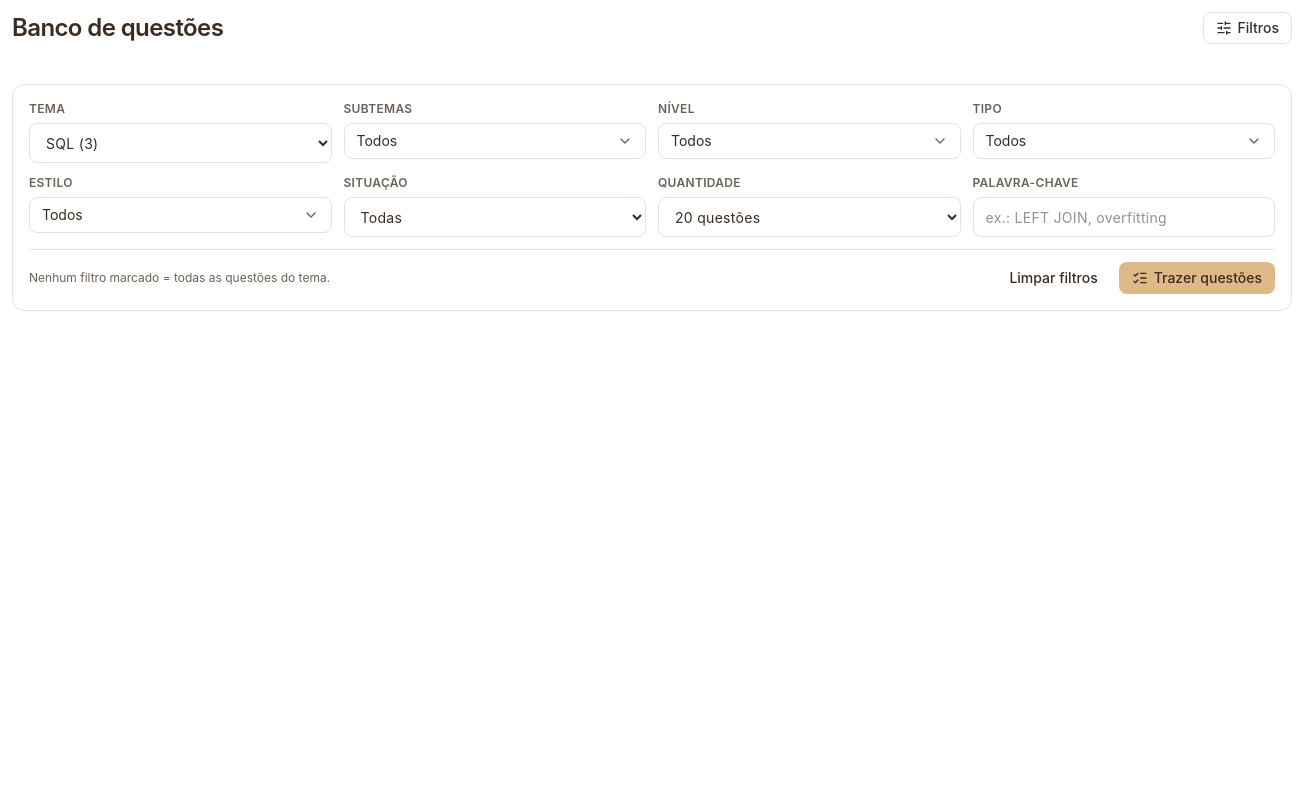
Test: banco de questões › corrige e comenta a resposta, e não deixa responder de novo
Step 1. Click the button "Trazer questões" → (1197, 278), box [1119,262,1275,294]
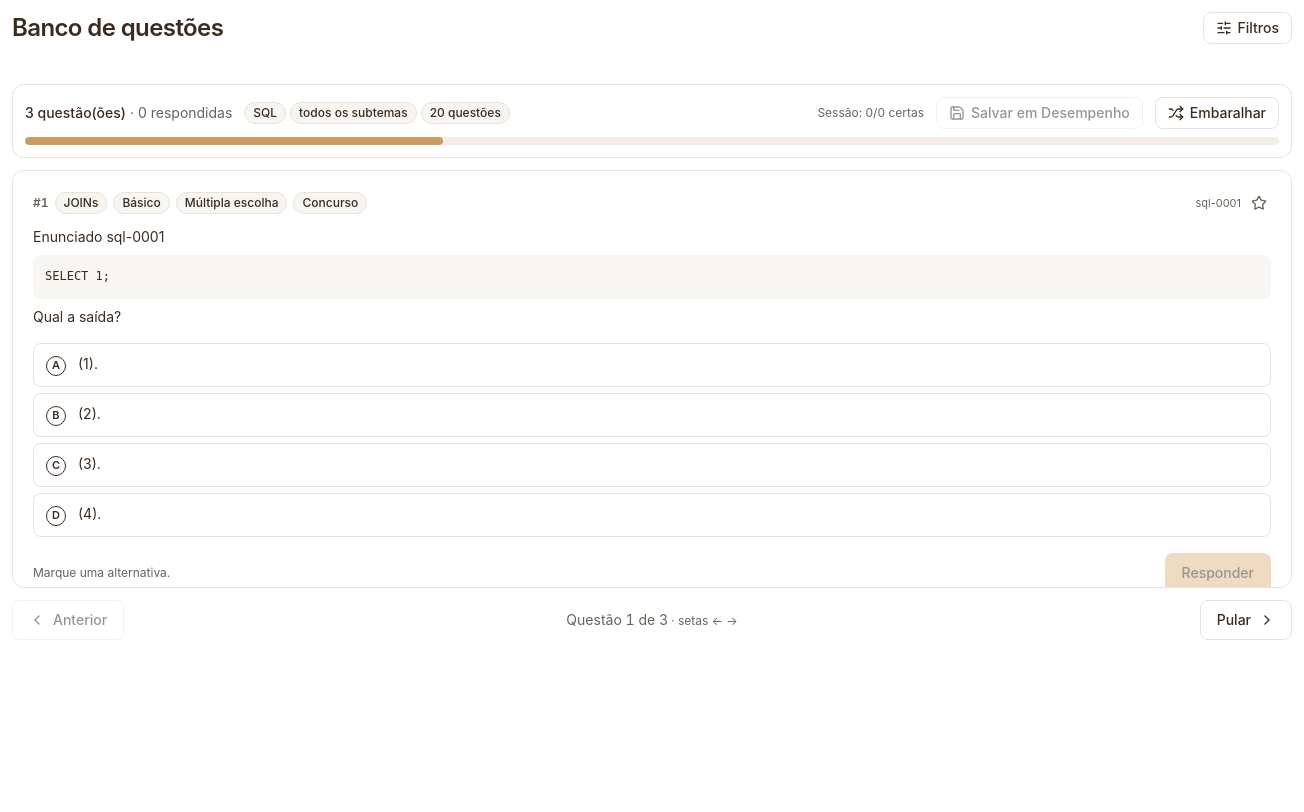
Check: the text "3 questão(ões)" is shown, box [25,104,126,121]
Check: the button "Responder" is disabled, box [1164,552,1271,588]
Step 2. Click the button named "Alternativa A" → (56, 366), box [33,342,1271,386]
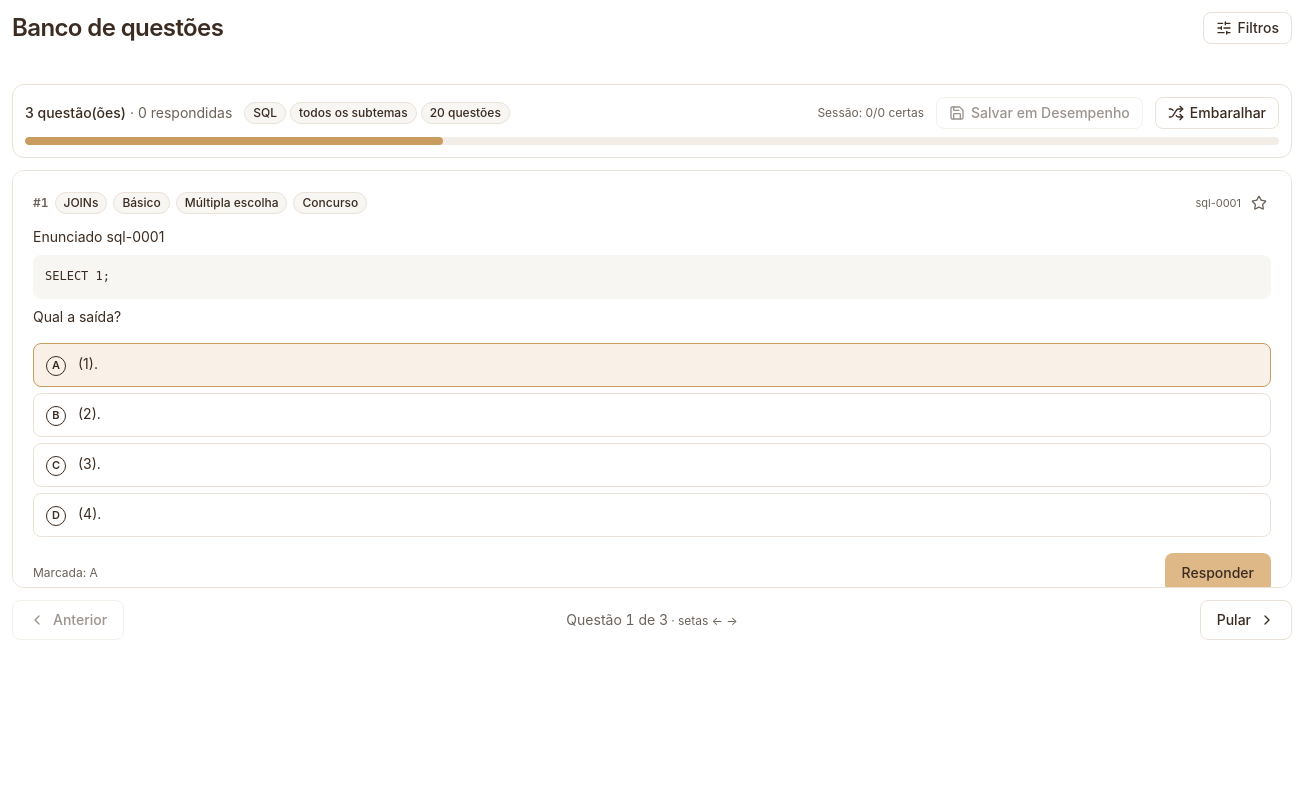
Step 3. Click the button "B (2)." → (56, 416), box [33,392,1271,436]
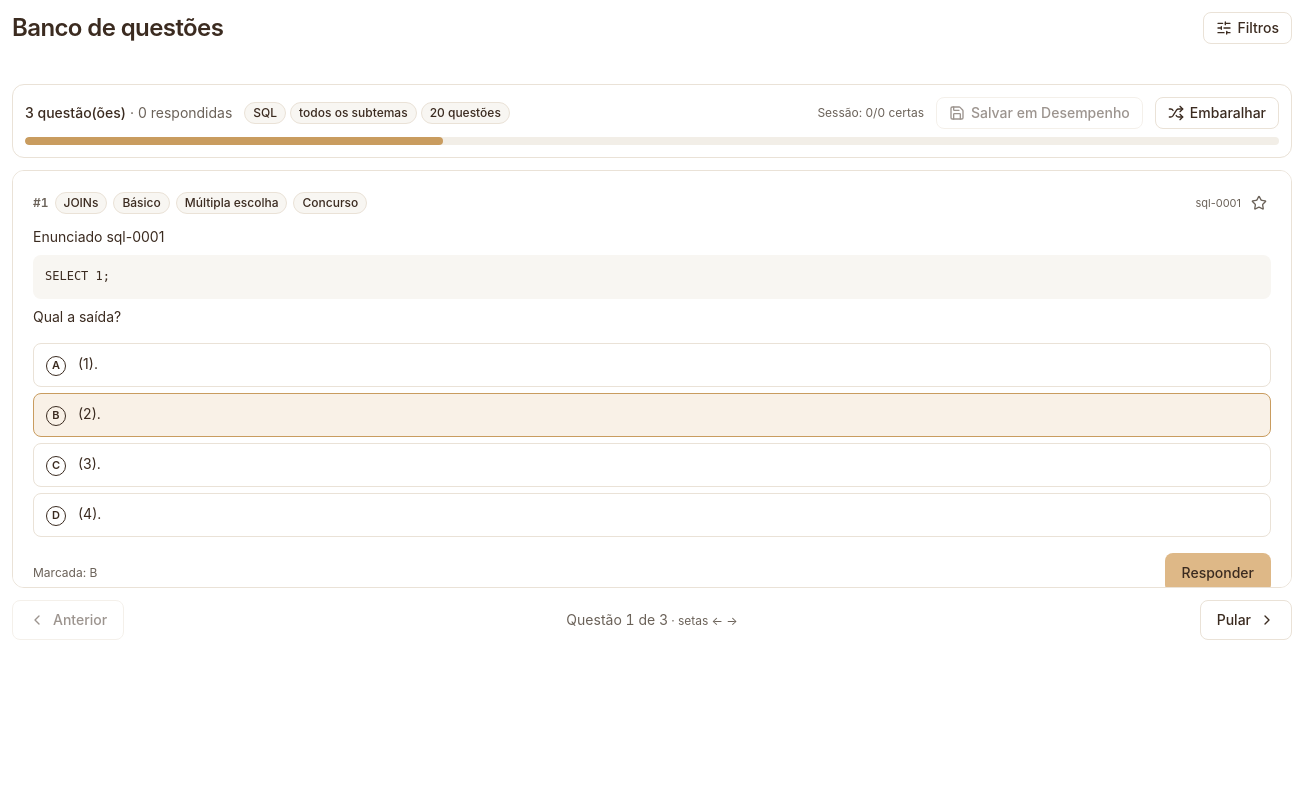
Step 4. Click the button "Responder" → (1218, 572), box [1164,552,1271,592]
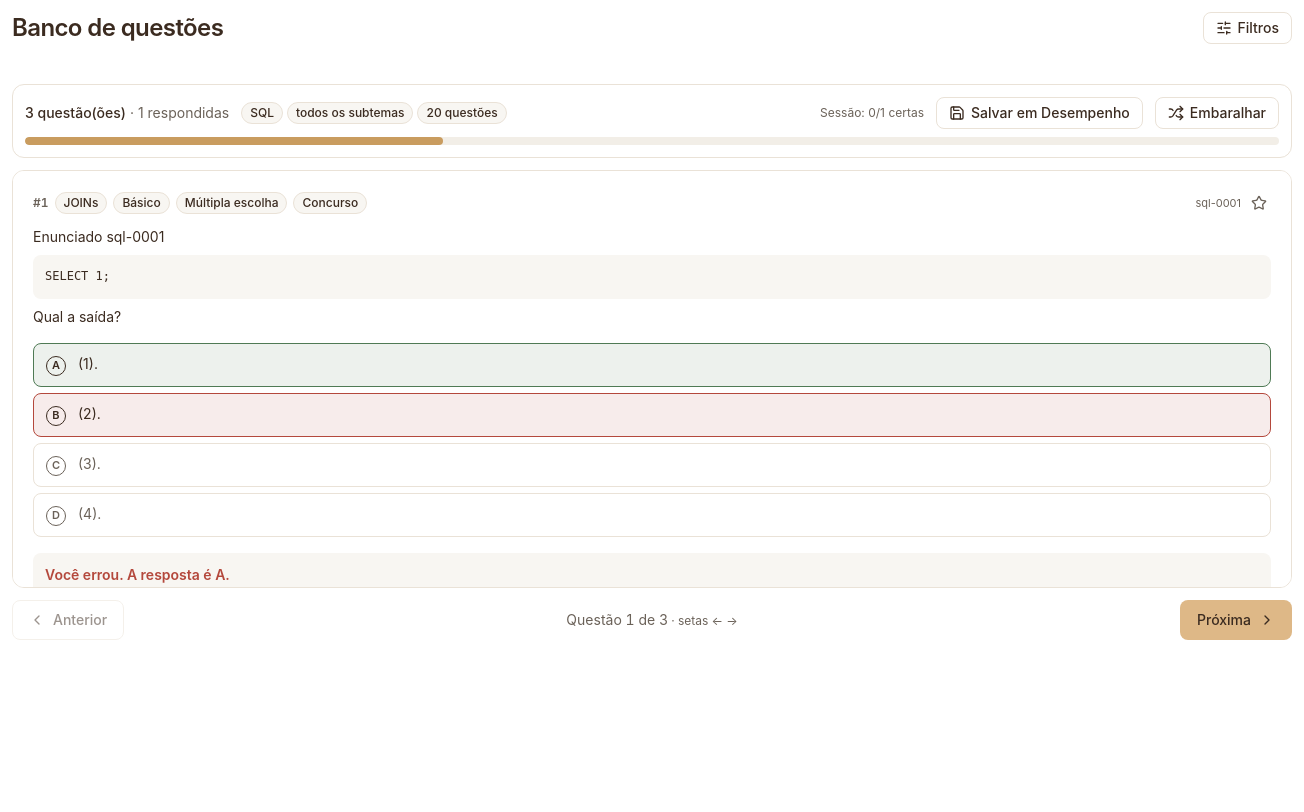
Check: the button named "Alternativa A" is disabled, box [33,342,1271,386]
Check: the text "Você errou. A resposta é A." is shown, box [45,566,230,582]
